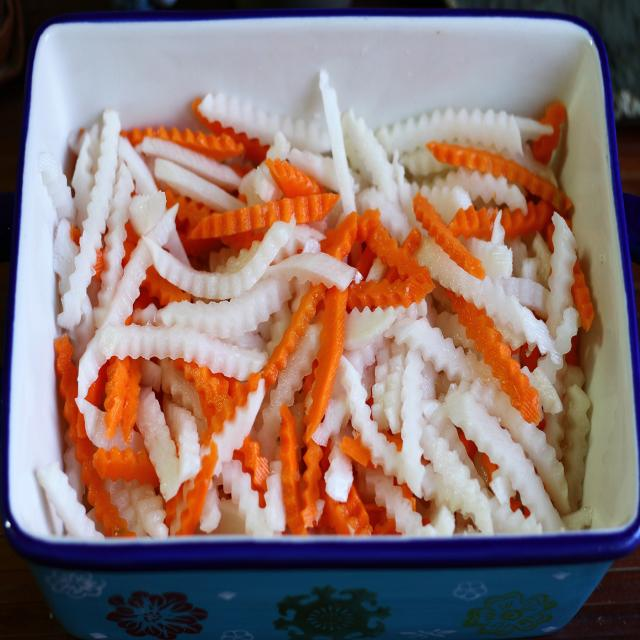do chua: (35, 70, 599, 539)
